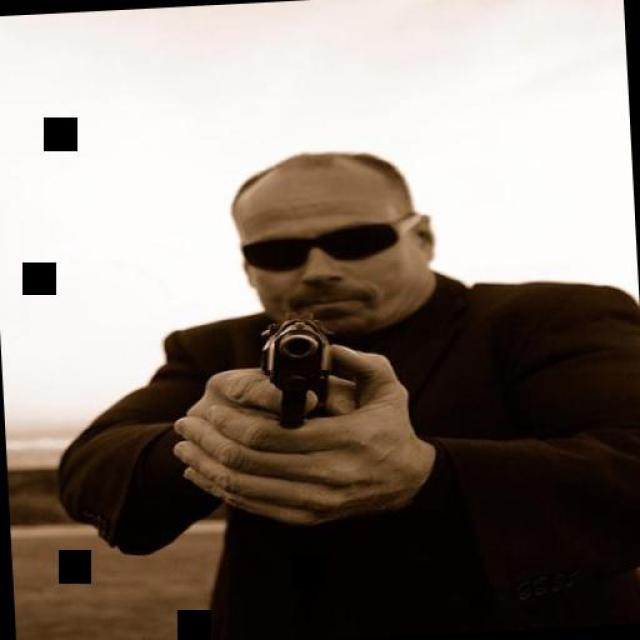gun: (254, 306, 335, 428)
